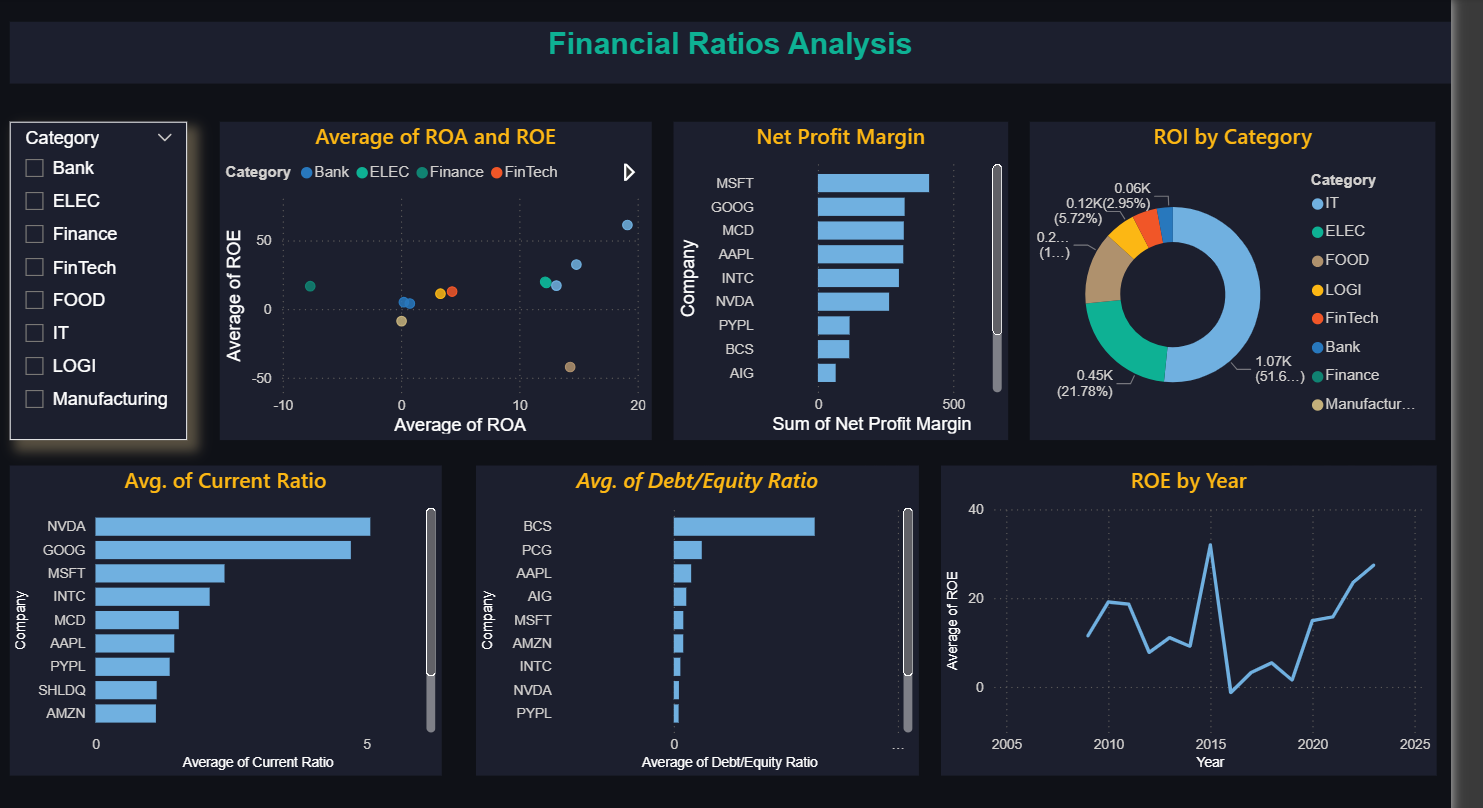

Layout of this report page (visuals, bound fields, positions):
{"tool":"powerbi","page":{"name":"Financial Ratios Analysis","canvas":[1280,720],"ordinal":2},"visuals":[{"type":"scatterChart","title":"Average of ROA and ROE","fields":{"Category":["Financial Statements.Company "],"X":["Avg(Financial Statements.ROA)"],"Y":["Avg(Financial Statements.ROE)"],"Series":["Financial Statements.Category"]},"box":[196.4,108.3,379.8,279.8],"z":0},{"type":"clusteredBarChart","title":"Net Profit Margin ","fields":{"Y":["Sum(Financial Statements.Net Profit Margin)"],"Category":["Financial Statements.Company "]},"box":[596.4,108.3,294,279.8],"z":1000},{"type":"donutChart","title":"ROI by Category","fields":{"Category":["Financial Statements.Category"],"Y":["Sum(Financial Statements.ROI)"]},"box":[909.5,108.3,357.1,279.8],"z":2000},{"type":"clusteredBarChart","title":"Avg. of Current Ratio ","fields":{"Category":["Financial Statements.Company "],"Y":["Avg(Financial Statements.Current Ratio)"]},"box":[11.9,410.7,379.8,272.6],"z":3000},{"type":"clusteredBarChart","title":"Avg. of Debt/Equity Ratio","fields":{"Category":["Financial Statements.Company "],"Y":["Avg(Financial Statements.Debt/Equity Ratio)"]},"box":[422.6,410.7,389.3,272.6],"z":4000},{"type":"lineChart","title":"ROE by Year","fields":{"Category":["Financial Statements.Year"],"Y":["Avg(Financial Statements.ROE)"]},"box":[831,410.7,435.7,272.6],"z":5000},{"type":"textbox","box":[11.9,21.4,1267.9,54.8],"z":6000},{"type":"slicer","fields":{"Values":["Financial Statements.Category"]},"box":[11.9,108.3,156,279.8],"z":7000}]}

Visuals, with their boxes on the page's 1280x720 design canvas (x1, y1, x2, y2). These are canvas units, not pixel positions in the 1483x808 screenshot, which may show the page scaled, cropped or inside an application window:
"Average of ROA and ROE" scatterChart: (196, 108, 576, 388)
"Net Profit Margin " clusteredBarChart: (596, 108, 890, 388)
"ROI by Category" donutChart: (910, 108, 1267, 388)
"Avg. of Current Ratio " clusteredBarChart: (12, 411, 392, 683)
"Avg. of Debt/Equity Ratio" clusteredBarChart: (423, 411, 812, 683)
"ROE by Year" lineChart: (831, 411, 1267, 683)
textbox: (12, 21, 1280, 76)
slicer - Financial Statements.Category: (12, 108, 168, 388)
